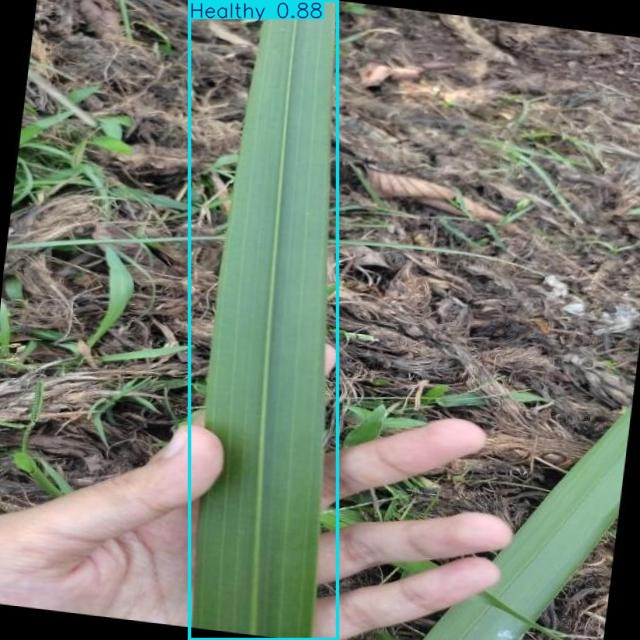Healthy: (190, 1, 337, 640)
